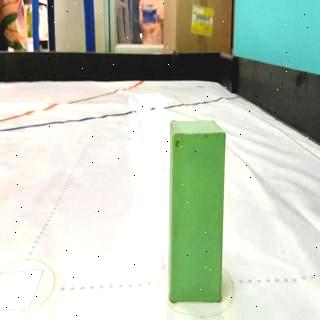greenbox: (171, 117, 226, 303)
